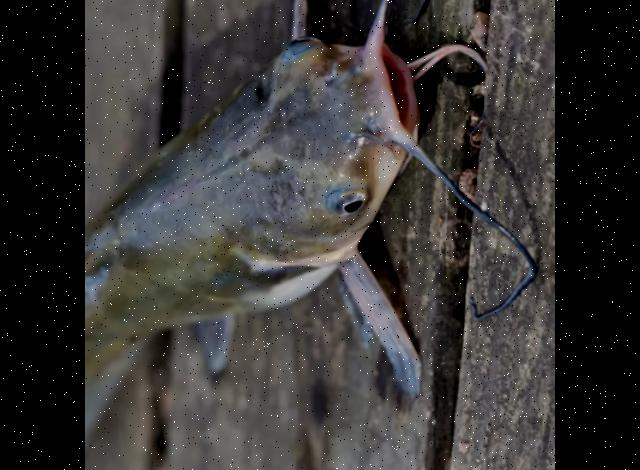Mulut: (358, 18, 457, 160)
Sirip Dada: (314, 212, 452, 428), (262, 0, 353, 69)
